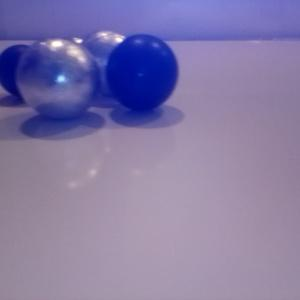alive_ball: (16, 37, 101, 120), (79, 30, 140, 96)
dead_ball: (106, 34, 179, 111), (1, 44, 49, 96)
